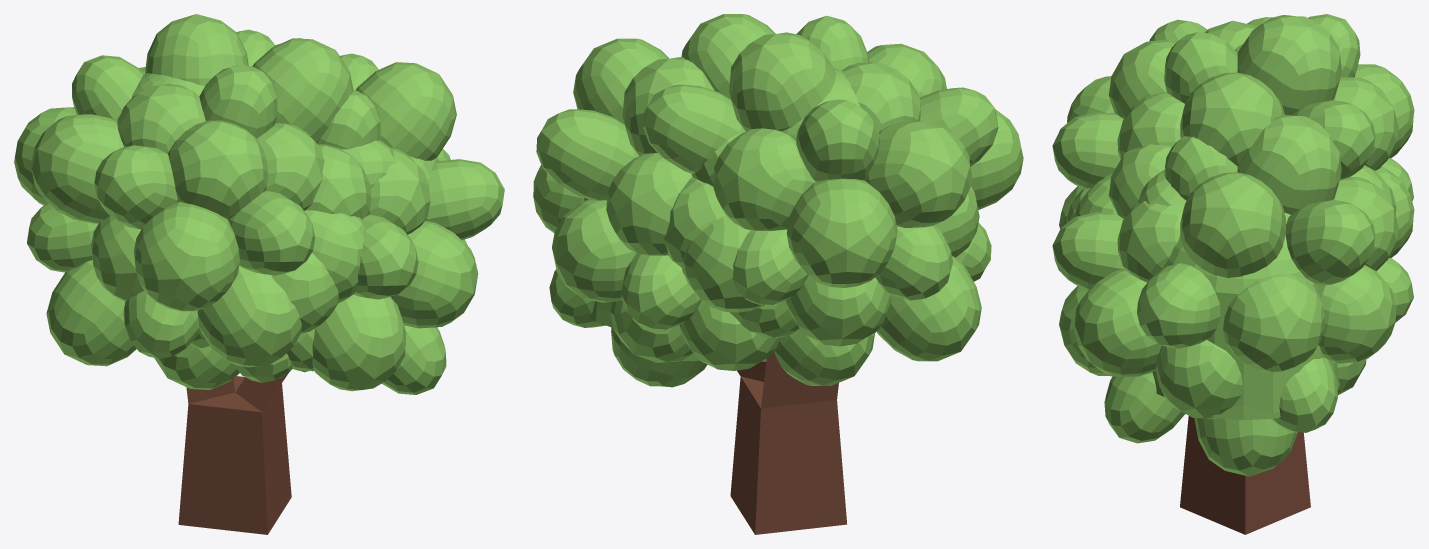
The model's file is tree001.fbx.
3 views of the same model, side by side, from view 1: azimuth 30°, elevation 25°; view 2: azimuth 150°, elevation 25°; view 3: azimuth 270°, elevation 25° (orthographic). The views are drawn at different scales.
Parts seen in each view (by area): view 1: pCylinder4, polySurface62, polySurface64, polySurface26, polySurface42, polySurface45, polySurface5, polySurface53, polySurface40, polySurface19, polySurface35, polySurface61 (+24 smaller); view 2: pCylinder4, polySurface38, polySurface45, polySurface37, polySurface41, polySurface8, polySurface40, polySurface59, polySurface18, polySurface11, polySurface65, polySurface52 (+23 smaller); view 3: polySurface5, pCylinder4, polySurface13, polySurface37, polySurface2, polySurface19, polySurface53, polySurface8, pSphere1, polySurface18, polySurface14, polySurface24 (+27 smaller).
Part boxes in pixels (x1=…): pCylinder4: x1=178, y1=372, x2=291, y2=534; polySurface62: x1=134, y1=202, x2=239, y2=311; polySurface64: x1=167, y1=120, x2=268, y2=219; polySurface26: x1=312, y1=294, x2=406, y2=391; polySurface42: x1=197, y1=265, x2=301, y2=367; polySurface45: x1=31, y1=114, x2=123, y2=223; polySurface5: x1=355, y1=62, x2=456, y2=160; polySurface53: x1=252, y1=38, x2=353, y2=142; polySurface40: x1=46, y1=260, x2=136, y2=366; polySurface19: x1=391, y1=220, x2=478, y2=328; polySurface35: x1=228, y1=190, x2=315, y2=275; polySurface61: x1=94, y1=145, x2=177, y2=229; pCylinder4: x1=730, y1=351, x2=847, y2=534; polySurface38: x1=786, y1=178, x2=897, y2=287; polySurface45: x1=864, y1=121, x2=971, y2=227; polySurface37: x1=729, y1=32, x2=835, y2=131; polySurface41: x1=713, y1=128, x2=815, y2=230; polySurface8: x1=536, y1=109, x2=638, y2=200; polySurface40: x1=876, y1=256, x2=981, y2=361; polySurface59: x1=643, y1=84, x2=744, y2=173; polySurface18: x1=552, y1=199, x2=636, y2=302; polySurface11: x1=606, y1=153, x2=692, y2=255; polySurface65: x1=796, y1=99, x2=880, y2=181; polySurface52: x1=786, y1=276, x2=892, y2=346; polySurface5: x1=1180, y1=172, x2=1285, y2=277; pCylinder4: x1=1180, y1=416, x2=1310, y2=534; polySurface13: x1=1223, y1=273, x2=1324, y2=372; polySurface37: x1=1237, y1=15, x2=1341, y2=115; polySurface2: x1=1237, y1=114, x2=1341, y2=214; polySurface19: x1=1074, y1=268, x2=1161, y2=376; polySurface53: x1=1180, y1=72, x2=1284, y2=165; polySurface8: x1=1285, y1=200, x2=1375, y2=285; pSphere1: x1=1152, y1=213, x2=1339, y2=420; polySurface18: x1=1319, y1=265, x2=1396, y2=363; polySurface14: x1=1137, y1=263, x2=1220, y2=348; polySurface24: x1=1156, y1=340, x2=1242, y2=419.
Size of what is drawn, in the model's own units: 4.92 by 5.45 by 3.73.
